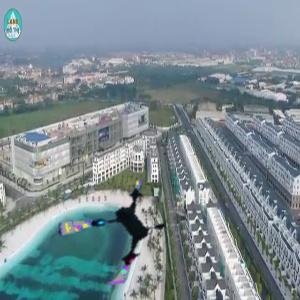drone: (60, 177, 176, 293)
